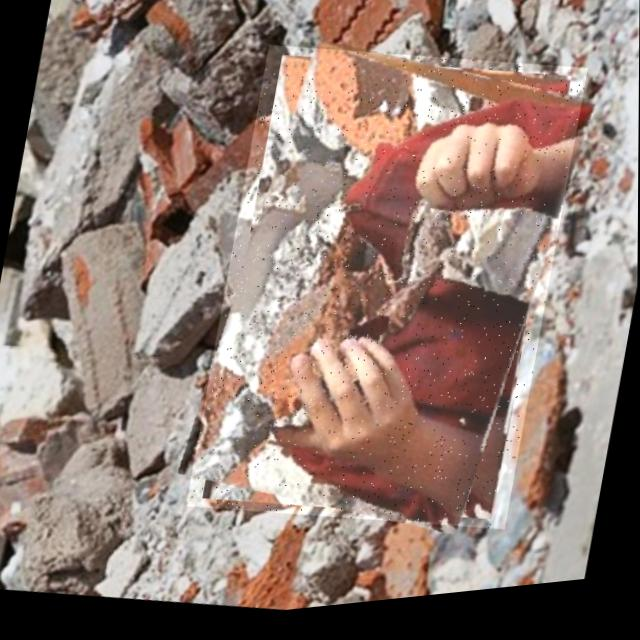Person in Rubble: (186, 23, 588, 565)
